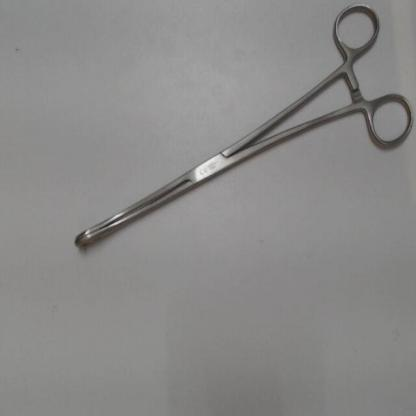Sponge Forceps: (63, 1, 414, 258)
